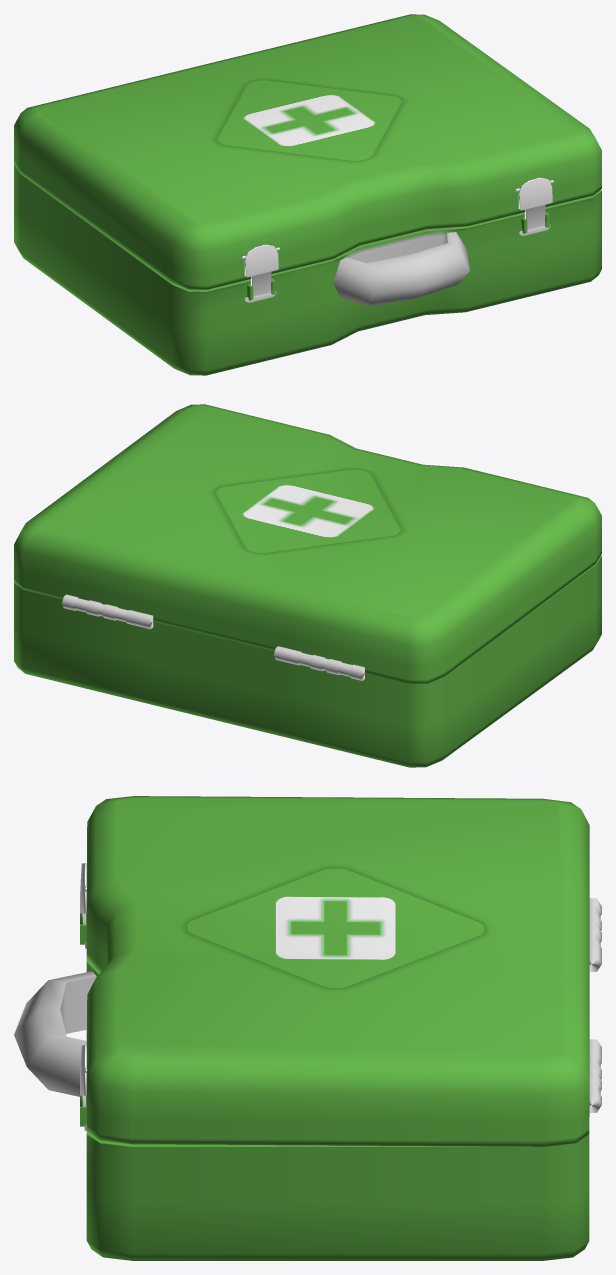
File: healing_items.glb
3 renders of one model, top to bottom at view 1: azimuth 30°, elevation 25°; view 2: azimuth 150°, elevation 25°; view 3: azimuth 270°, elevation 25°, orthographic. The views are drawn at different scales.
Visible parts, largest first — view 1: Cube.027, Cube.026, Cube.029; view 2: Cube.027, Cube.026, Cylinder.023, Cylinder.024; view 3: Cube.027, Cube.026, Cylinder.023, Cube.029.
Part boxes in pixels (x1,y1,x2,y2): Cube.027: [14, 14, 601, 289]; Cube.026: [14, 164, 601, 375]; Cube.029: [242, 177, 553, 302]; Cube.027: [14, 404, 601, 683]; Cube.026: [14, 555, 601, 767]; Cylinder.023: [62, 594, 364, 680]; Cylinder.024: [74, 598, 351, 676]; Cube.027: [86, 796, 589, 1146]; Cube.026: [14, 913, 589, 1260]; Cylinder.023: [589, 898, 601, 1112]; Cube.029: [80, 863, 86, 1130].
Bounding box in the file's own units: 11.67 × 3.84 × 10.28.
Materials: 3 (2 with a texture image).
